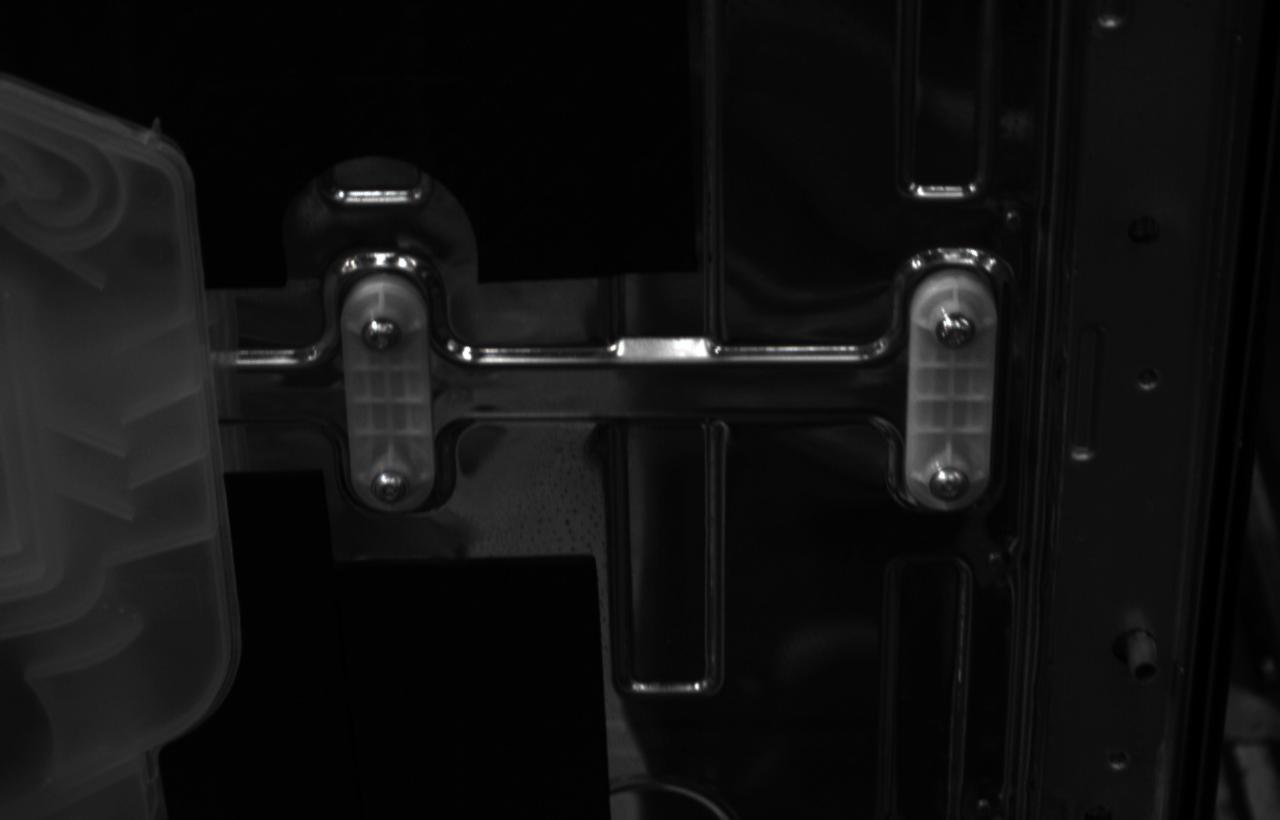vida-ok: (934, 310, 978, 352), (358, 315, 404, 354), (927, 466, 970, 504), (369, 468, 411, 506)
